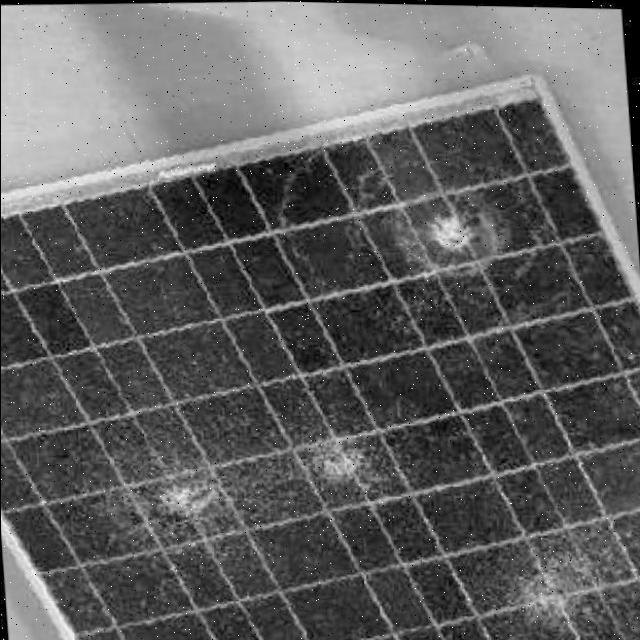Anomaly Solar Panel: (0, 79, 640, 640)
Structural Damage: (81, 392, 435, 566), (312, 158, 542, 312), (468, 496, 640, 640)
